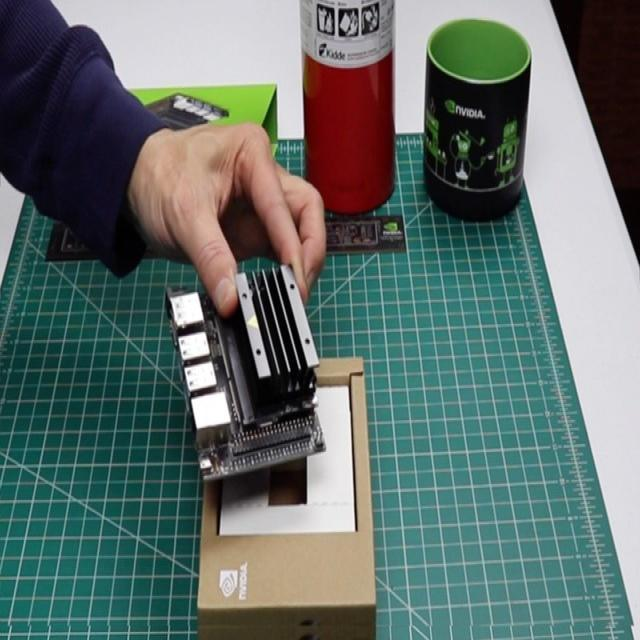Jetson Nano: (168, 264, 327, 482)
